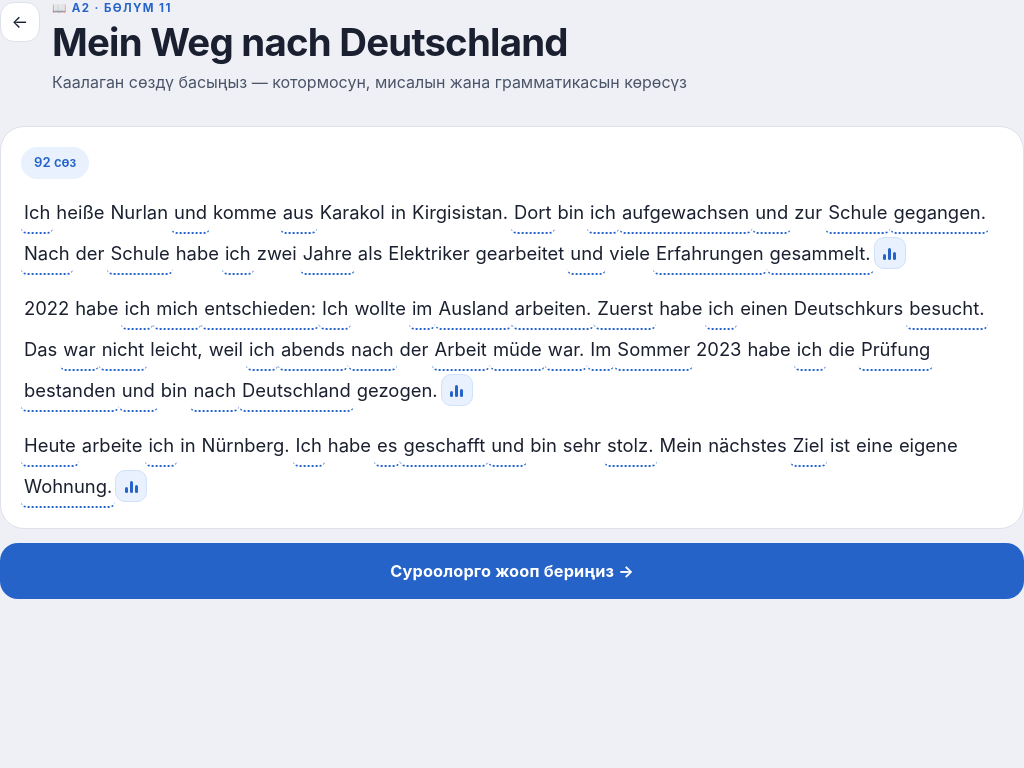
Test: the screens pass the learner language to the builders › the A2 reading lab shows a word explanation in the learner language only
Later steps or results of the test are not shown.
Click the button "aufgewachsen": x=686, y=214 [619,193,752,234]
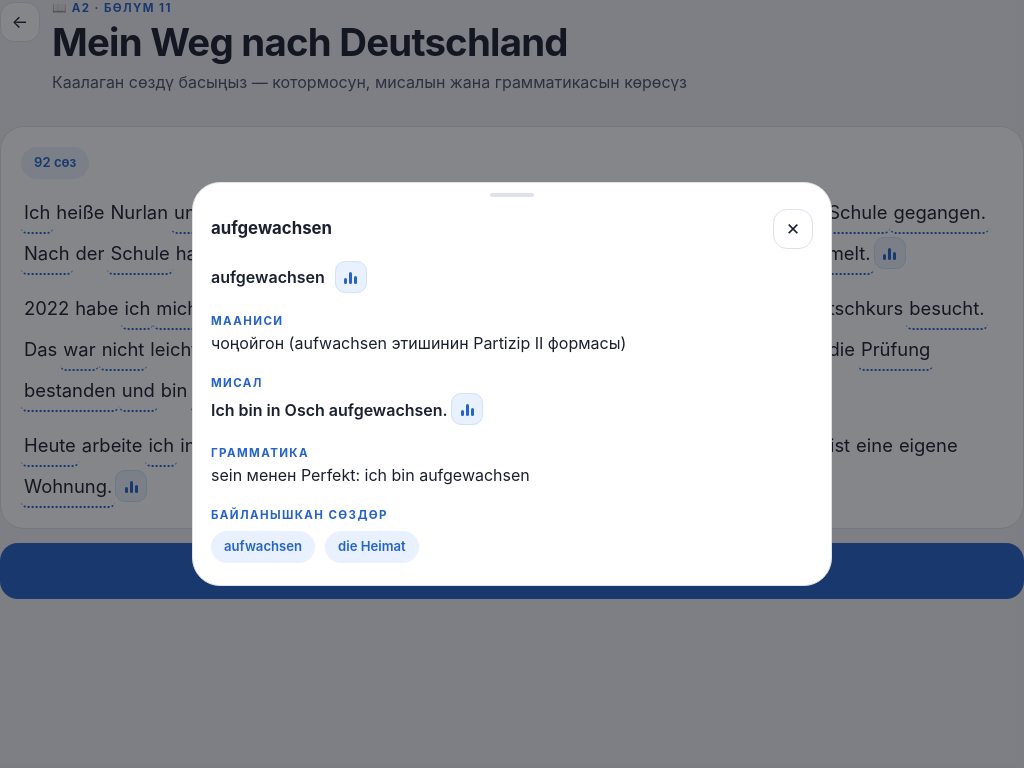
Check: the text "чоңойгон (aufwachsen этишинин Partizip II формасы)" is shown, box [211,333,626,353]
